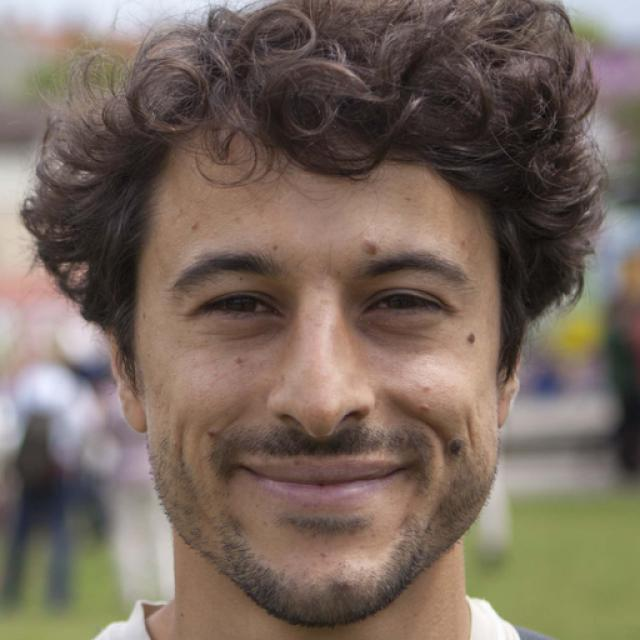Acne: (412, 380, 441, 397), (418, 396, 438, 415)
Spots: (436, 415, 477, 472), (352, 230, 388, 262), (193, 418, 222, 453), (456, 326, 487, 357), (178, 215, 205, 241), (227, 350, 255, 374), (132, 305, 152, 325), (454, 236, 473, 248)
